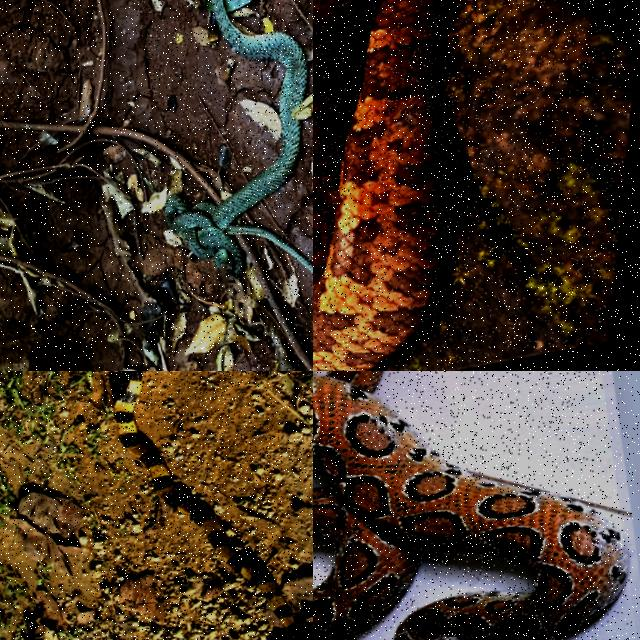Bungarus fasciatus: (113, 371, 305, 639)
Chrysopelea ornata: (165, 0, 312, 274)
Daboia siamensis: (313, 371, 627, 639)
Ovophis monticola: (313, 0, 447, 370)
